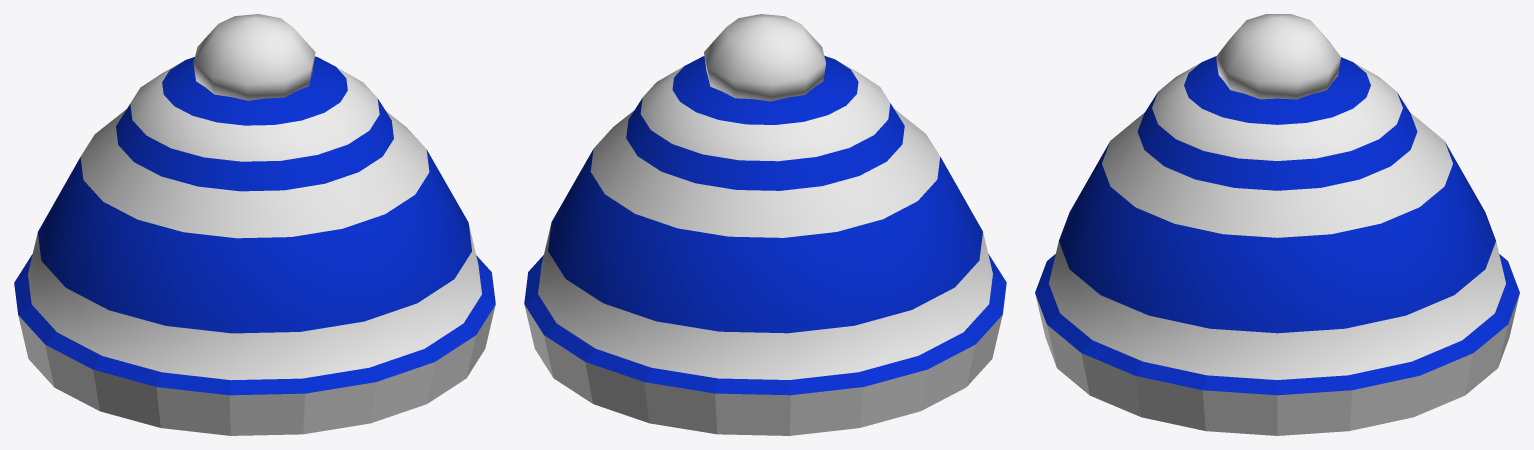
Rendered from ziemine.fbx.
The picture shows the model from 3 angles, left to right: view 1: azimuth 30°, elevation 25°; view 2: azimuth 150°, elevation 25°; view 3: azimuth 270°, elevation 25°; orthographic projection.
Visible parts, largest first — view 1: Sphere; view 2: Sphere; view 3: Sphere.
Boxes of the visible parts, x1=… form: Sphere: x1=14, y1=14, x2=495, y2=435; Sphere: x1=524, y1=14, x2=1006, y2=435; Sphere: x1=1035, y1=14, x2=1519, y2=435.
Size of the model in its own units: 2.11 by 1.53 by 2.11.
